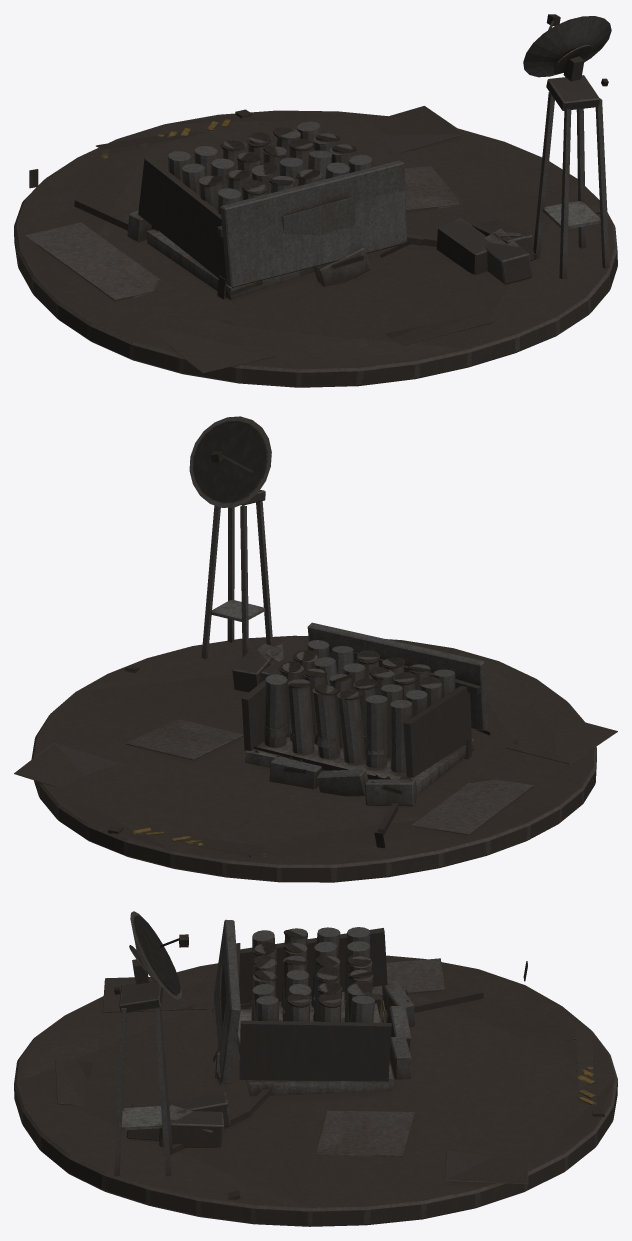
File: chs_basilisk_wreck.fbx
The picture shows the model from 3 angles, top to bottom: view 1: azimuth 30°, elevation 25°; view 2: azimuth 150°, elevation 25°; view 3: azimuth 270°, elevation 25°; orthographic projection. The views are drawn at different scales.
Visible parts, largest first — view 1: base_bar, launcher_bar, radar_bar; view 2: base_bar, launcher_bar, radar_bar; view 3: base_bar, launcher_bar, radar_bar.
Boxes of the visible parts, <box> form: base_bar: <box>14,75,617,387</box>; launcher_bar: <box>138,121,407,299</box>; radar_bar: <box>523,14,611,81</box>; base_bar: <box>14,490,617,882</box>; launcher_bar: <box>241,622,488,795</box>; radar_bar: <box>189,416,271,507</box>; base_bar: <box>14,955,617,1226</box>; launcher_bar: <box>214,919,393,1096</box>; radar_bar: <box>129,911,188,999</box>.
Size of the model in its own units: 2266 by 1306 by 2290.
2 materials, 2 textured.
